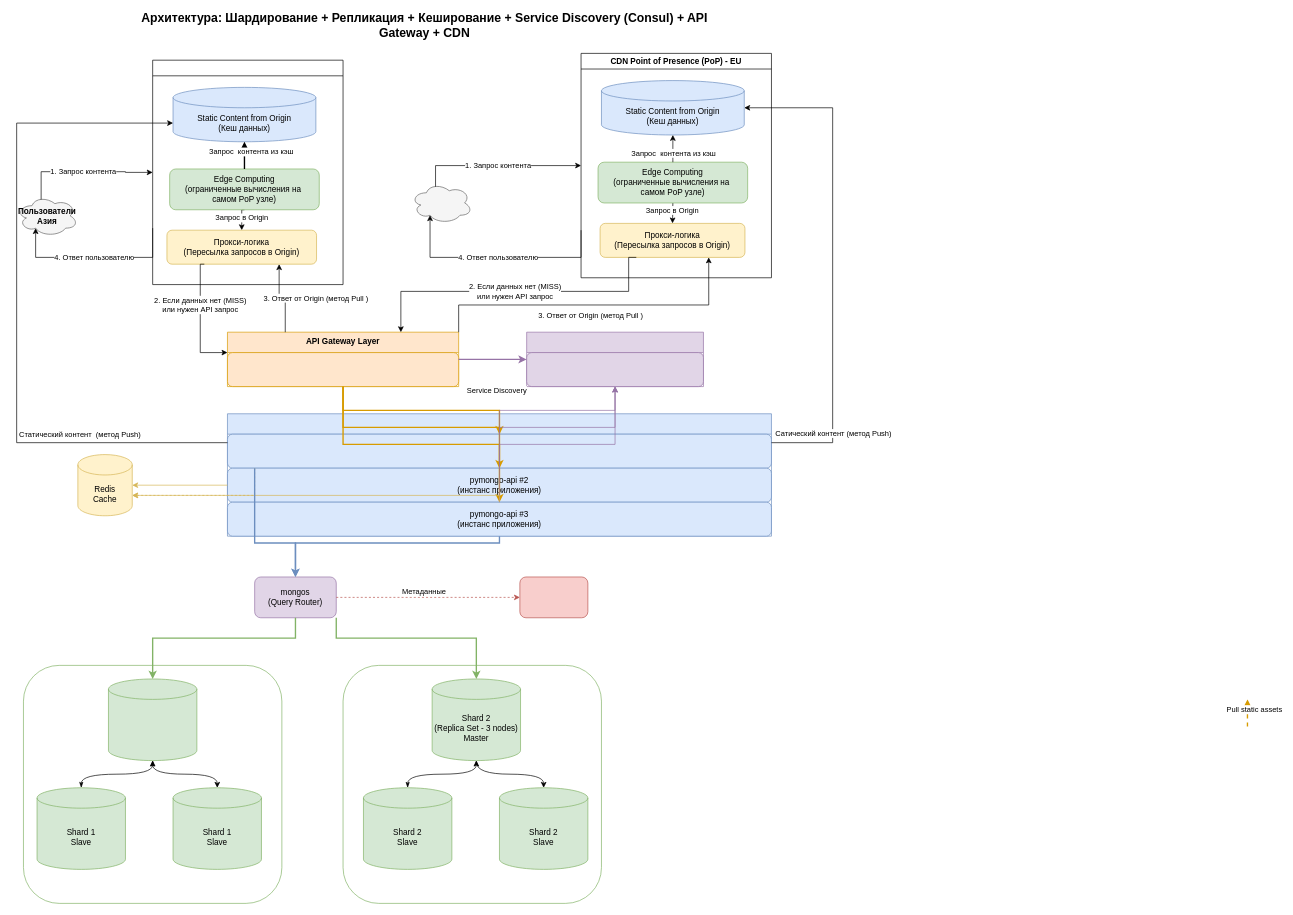
Image size: 1293x915. Some labels were removed from this diagram. The box of each missing label's shape, as (x1, y1, x2, y2) in pixels:
API Gateway (Kong / Nginx) Балансировка нагрузки + Маршрутизация: (227, 352, 459, 387)
Application Instances (Горизонтальное масштабирование): (227, 413, 771, 536)
CDN Point of Presence (PoP) - Asia: (152, 60, 343, 285)
Config Server (configSrv): (519, 576, 588, 618)
Consul Server (Service Registry): (526, 352, 703, 387)
pymongo-api #1 (инстанс приложения): (227, 434, 771, 468)
Service Discovery Layer (Hashicorp Consul): (526, 332, 703, 387)
Shard 1 (Replica Set - 3 nodes) Master: (108, 678, 197, 761)
Пользователи Европа: (410, 182, 472, 223)
